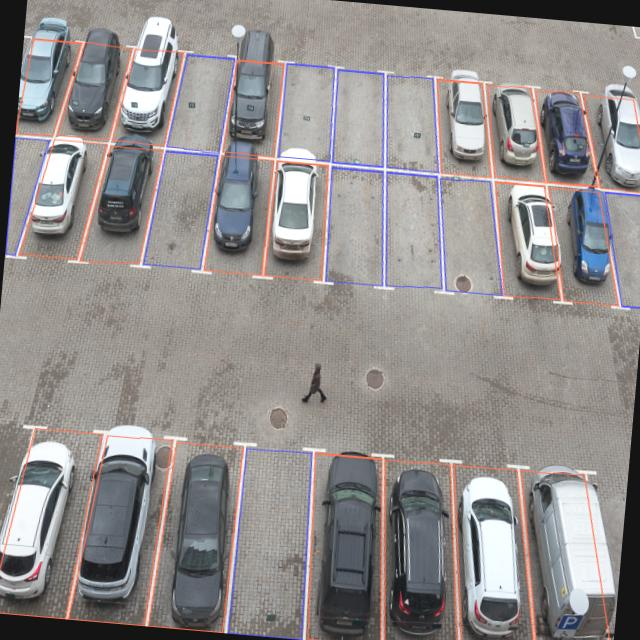car: (146, 440, 244, 632), (70, 433, 170, 619), (300, 449, 395, 640), (371, 455, 468, 640), (515, 462, 609, 640), (0, 423, 88, 612), (449, 465, 536, 640), (25, 134, 100, 262), (486, 179, 566, 298), (85, 139, 159, 266), (202, 151, 275, 276), (262, 158, 332, 280), (114, 44, 182, 146), (220, 56, 286, 156), (62, 39, 128, 139), (556, 188, 616, 296), (482, 82, 548, 176), (436, 78, 495, 178), (544, 79, 598, 186), (587, 87, 640, 191), (16, 35, 72, 131)
free: (224, 444, 319, 638), (430, 174, 508, 294), (320, 165, 393, 286), (144, 148, 216, 270), (384, 170, 448, 286), (167, 50, 232, 152), (380, 72, 442, 172), (274, 62, 336, 161), (327, 68, 388, 168), (600, 190, 640, 308), (5, 134, 43, 255)
